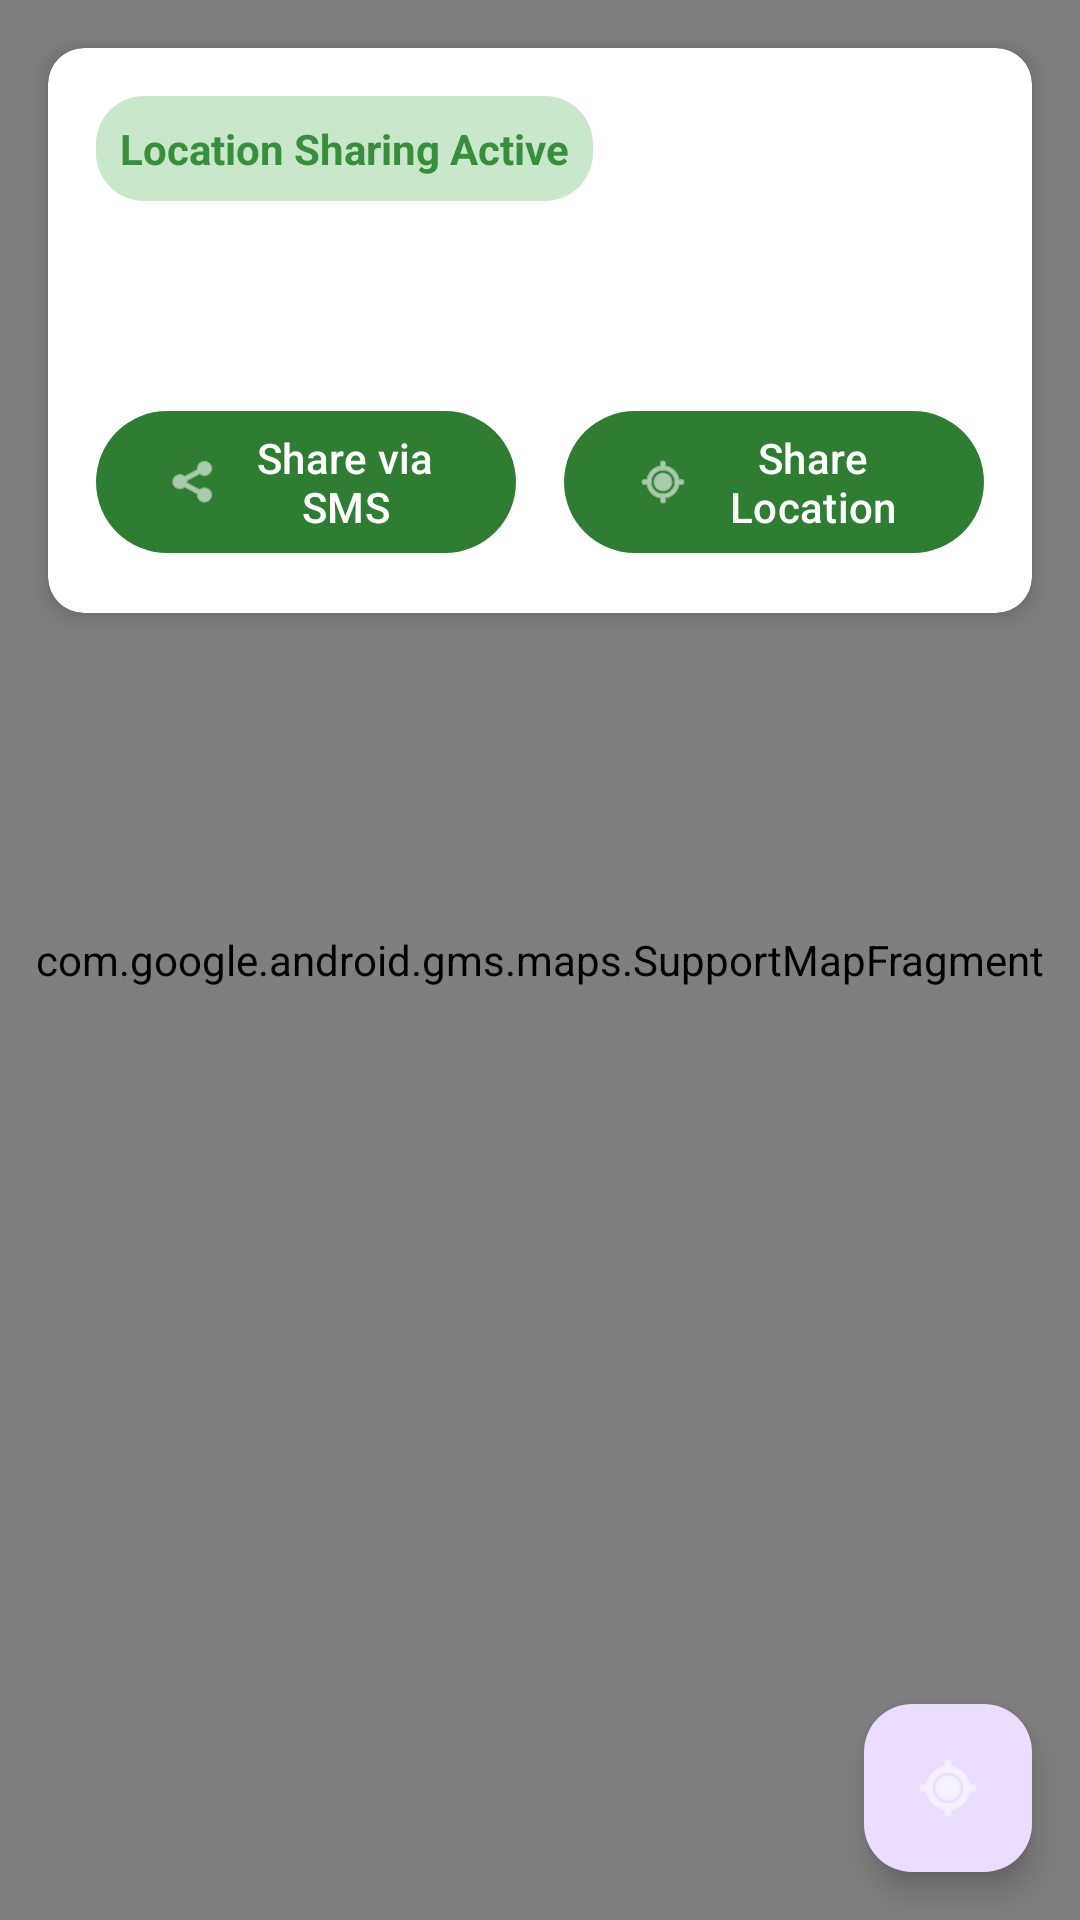

Screen size 1080*1920. Icon name, then its box in pixels as {"left": x1, "top": y1, "right": x2, "bottom": y2}:
mylocation: {"left": 864, "top": 1704, "right": 1032, "bottom": 1872}
